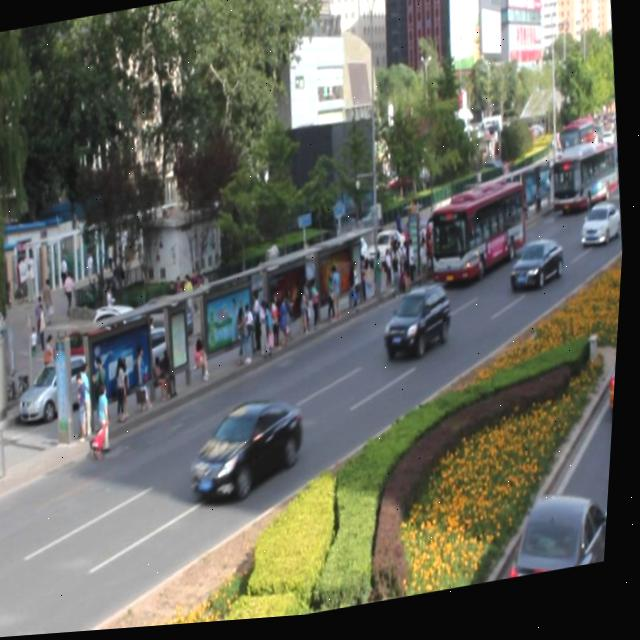car: (188, 393, 314, 508), (382, 285, 458, 368), (509, 243, 568, 302), (578, 208, 625, 257)
van: (421, 186, 530, 299)
